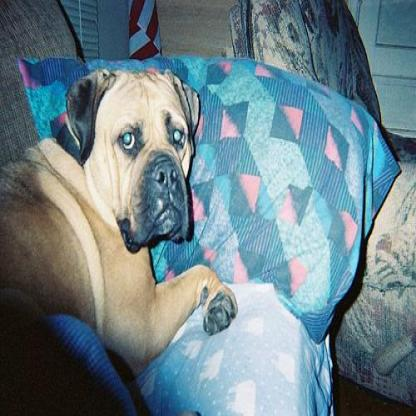bull_mastiff: (0, 66, 237, 384)
